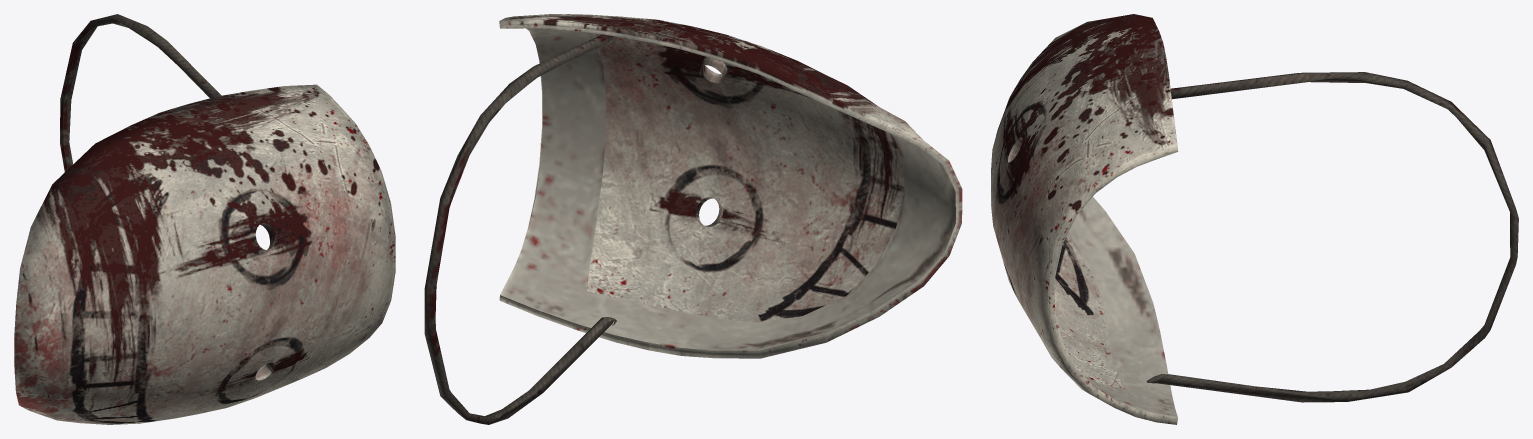
Rendered from M_LegionMask.fbx.
3 renders of one model, left to right at view 1: azimuth 30°, elevation 25°; view 2: azimuth 150°, elevation 25°; view 3: azimuth 270°, elevation 25°, orthographic. The views are drawn at different scales.
Visible parts, largest first — view 1: 7_+mesh6.mesh6_0.1_16_16.001; view 2: 7_+mesh6.mesh6_0.1_16_16.001; view 3: 7_+mesh6.mesh6_0.1_16_16.001.
Boxes of the visible parts, x1,y1,x2,y2 form: 7_+mesh6.mesh6_0.1_16_16.001: (14,14,395,424); 7_+mesh6.mesh6_0.1_16_16.001: (424,14,962,424); 7_+mesh6.mesh6_0.1_16_16.001: (991,14,1518,424).
Bounding box in the file's own units: 0.1457 × 0.1105 × 0.161.
